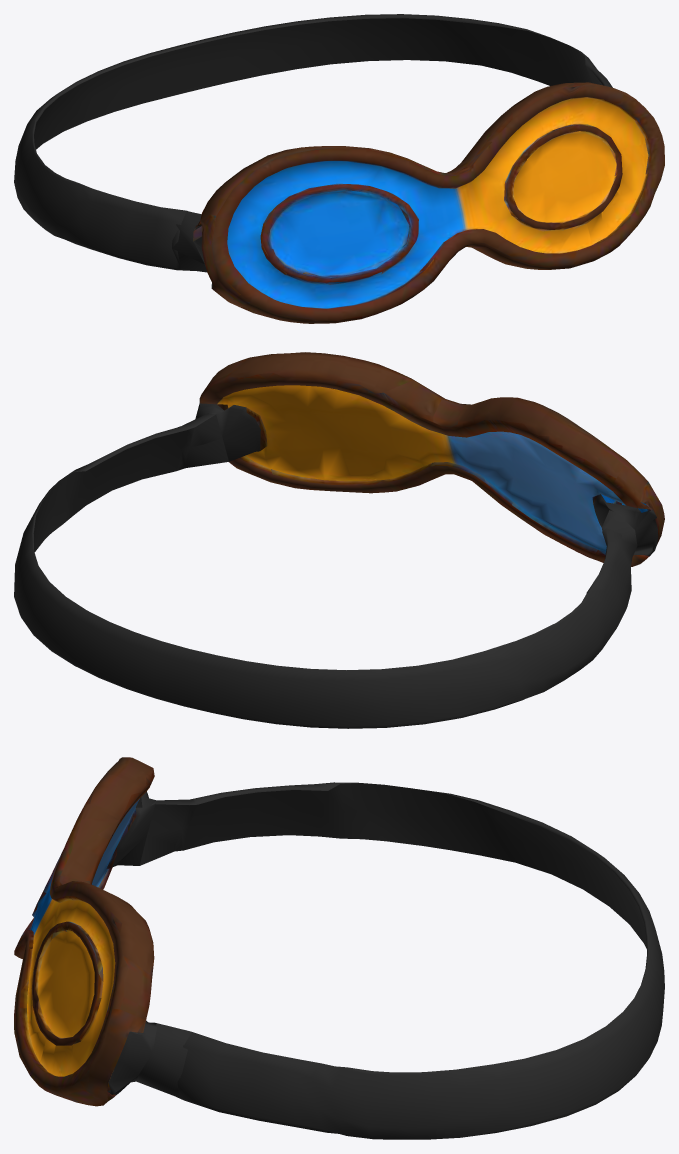
File: wear-goggles-human.glb
3 views of the same model, one above another, from view 1: azimuth 30°, elevation 25°; view 2: azimuth 150°, elevation 25°; view 3: azimuth 270°, elevation 25° (orthographic). The views are drawn at different scales.
Visible parts, largest first — view 1: wear-goggles; view 2: wear-goggles; view 3: wear-goggles.
Part boxes in pixels (x1=…): wear-goggles: x1=14, y1=14, x2=664, y2=323; wear-goggles: x1=14, y1=352, x2=664, y2=728; wear-goggles: x1=14, y1=757, x2=664, y2=1139.
Size of the model in its own units: 0.5424 by 0.1484 by 0.493.
1 material, 1 textured.
